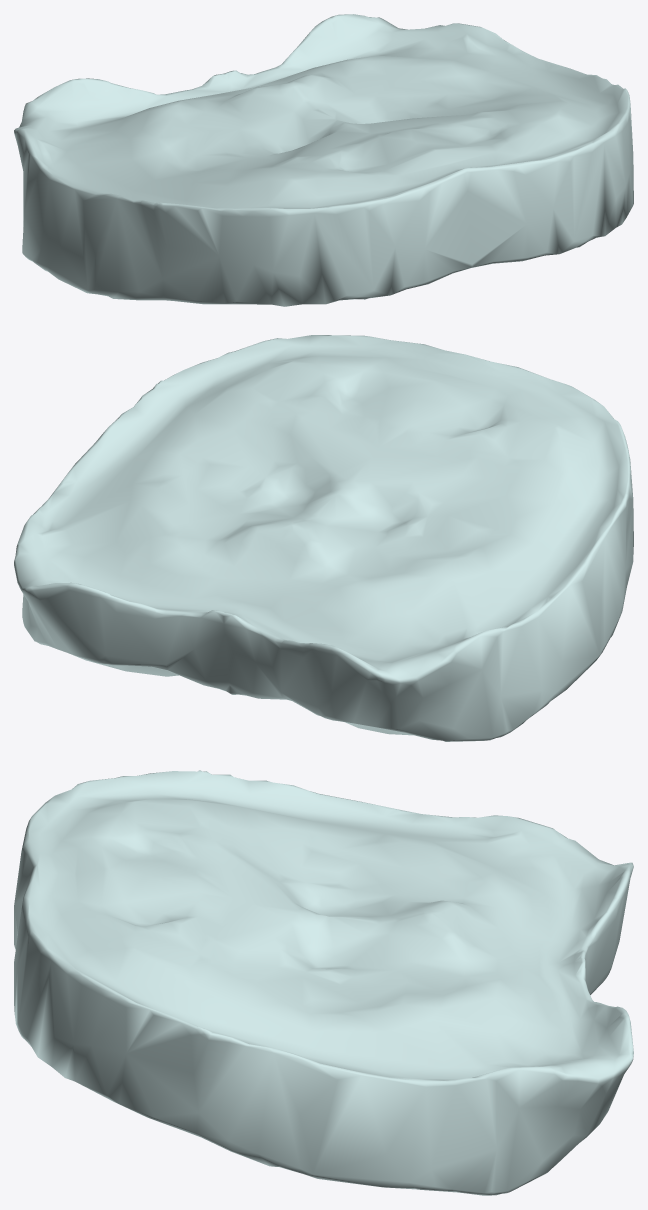
The model's file is Intervertebral_disc_T8-T9_Generated_Mesh_From_X3D.055.glb.
3 renders of one model, top to bottom at view 1: azimuth 30°, elevation 25°; view 2: azimuth 150°, elevation 25°; view 3: azimuth 270°, elevation 25°, orthographic. The views are drawn at different scales.
Parts seen in each view (by area): view 1: Intervertebral_disc_T8-T9_Generated_Mesh_From_X3D.055; view 2: Intervertebral_disc_T8-T9_Generated_Mesh_From_X3D.055; view 3: Intervertebral_disc_T8-T9_Generated_Mesh_From_X3D.055.
Part boxes in pixels (x1,y1,x2,y2): Intervertebral_disc_T8-T9_Generated_Mesh_From_X3D.055: (14,14,633,306); Intervertebral_disc_T8-T9_Generated_Mesh_From_X3D.055: (14,335,633,741); Intervertebral_disc_T8-T9_Generated_Mesh_From_X3D.055: (14,770,633,1195).
Size of the model in its own units: 0.0382 by 0.0134 by 0.0354.
